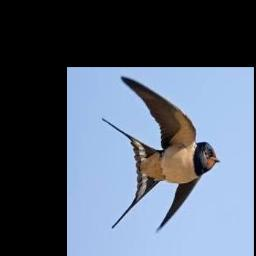Swallow: (102, 75, 220, 232)
